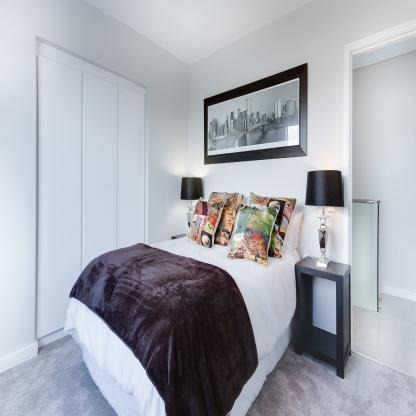Bed: (61, 192, 305, 416)
Lamp: (303, 169, 344, 267), (180, 176, 200, 232)
Nightstand: (296, 256, 351, 378)
